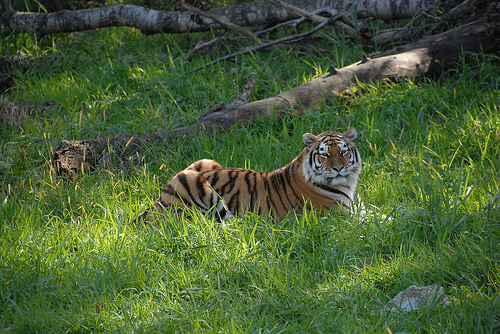Tigre: (141, 118, 395, 242)
